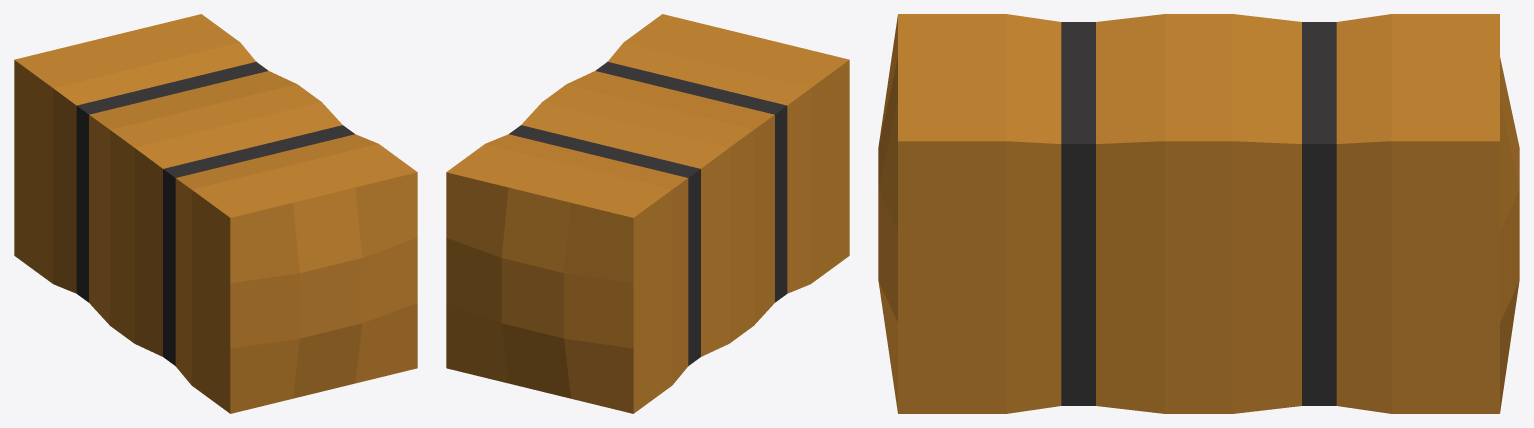
The model's file is Hay.fbx.
3 renders of one model, left to right at view 1: azimuth 30°, elevation 25°; view 2: azimuth 150°, elevation 25°; view 3: azimuth 270°, elevation 25°, orthographic. The views are drawn at different scales.
Visible parts, largest first — view 1: Hay; view 2: Hay; view 3: Hay.
Part boxes in pixels (x1,y1,x2,y2): Hay: (14,14,417,413); Hay: (446,14,849,413); Hay: (878,14,1519,413).
Bounding box in the file's own units: 200 × 200 × 426.
